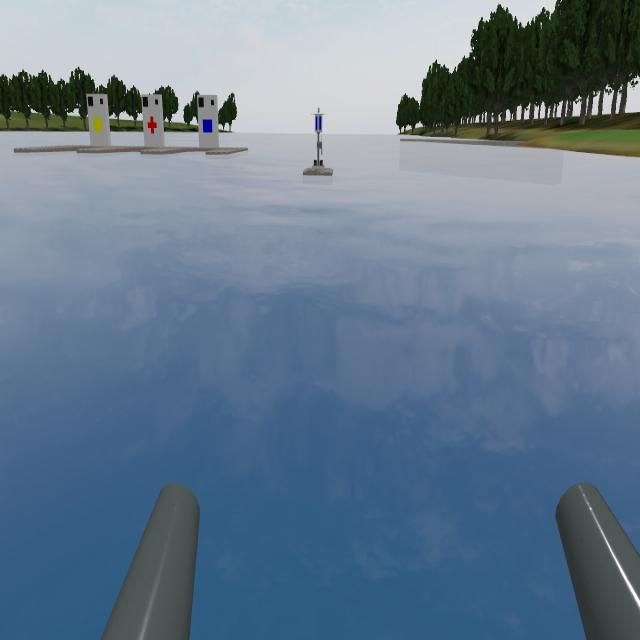blue_pole: (310, 103, 330, 154)
